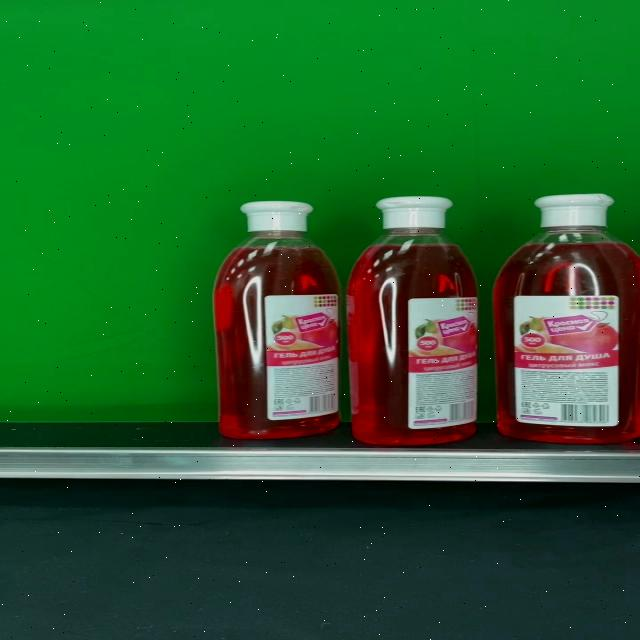Bottle: (492, 193, 640, 444), (347, 196, 478, 445), (214, 201, 340, 438)
Cap: (533, 193, 614, 227), (376, 197, 454, 229), (240, 201, 314, 232)
